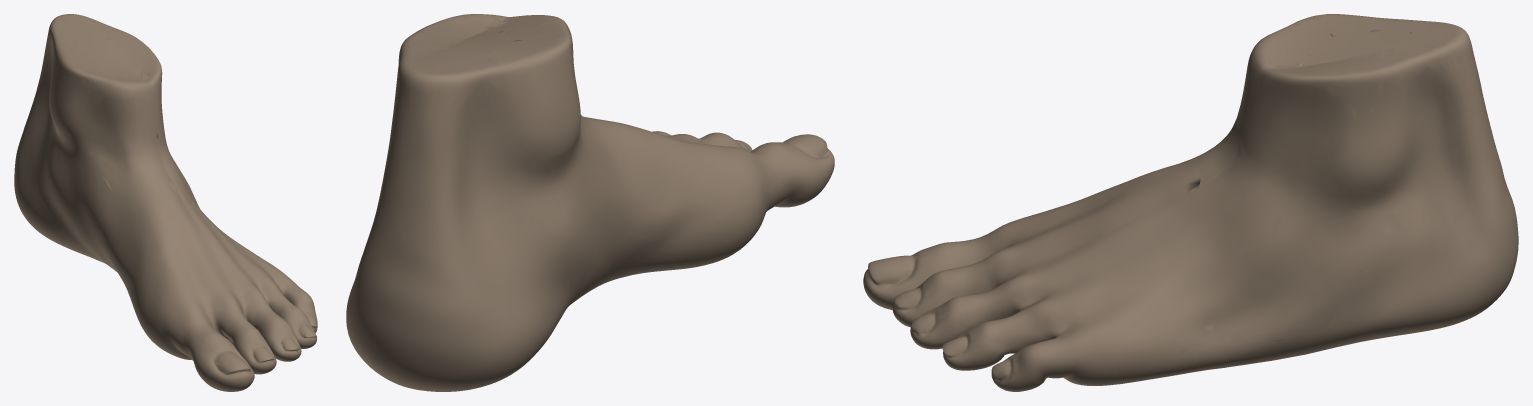
Rendered from foot.high.optimized.glb.
3 renders of one model, left to right at view 1: azimuth 30°, elevation 25°; view 2: azimuth 150°, elevation 25°; view 3: azimuth 270°, elevation 25°, orthographic. The views are drawn at different scales.
Parts seen in each view (by area): view 1: Foot_High; view 2: Foot_High; view 3: Foot_High.
Part boxes in pixels (x1,y1,x2,y2): Foot_High: (14, 14, 317, 391); Foot_High: (346, 14, 834, 391); Foot_High: (863, 14, 1518, 391).
Bounding box in the file's own units: 2.69 × 3.61 × 7.
